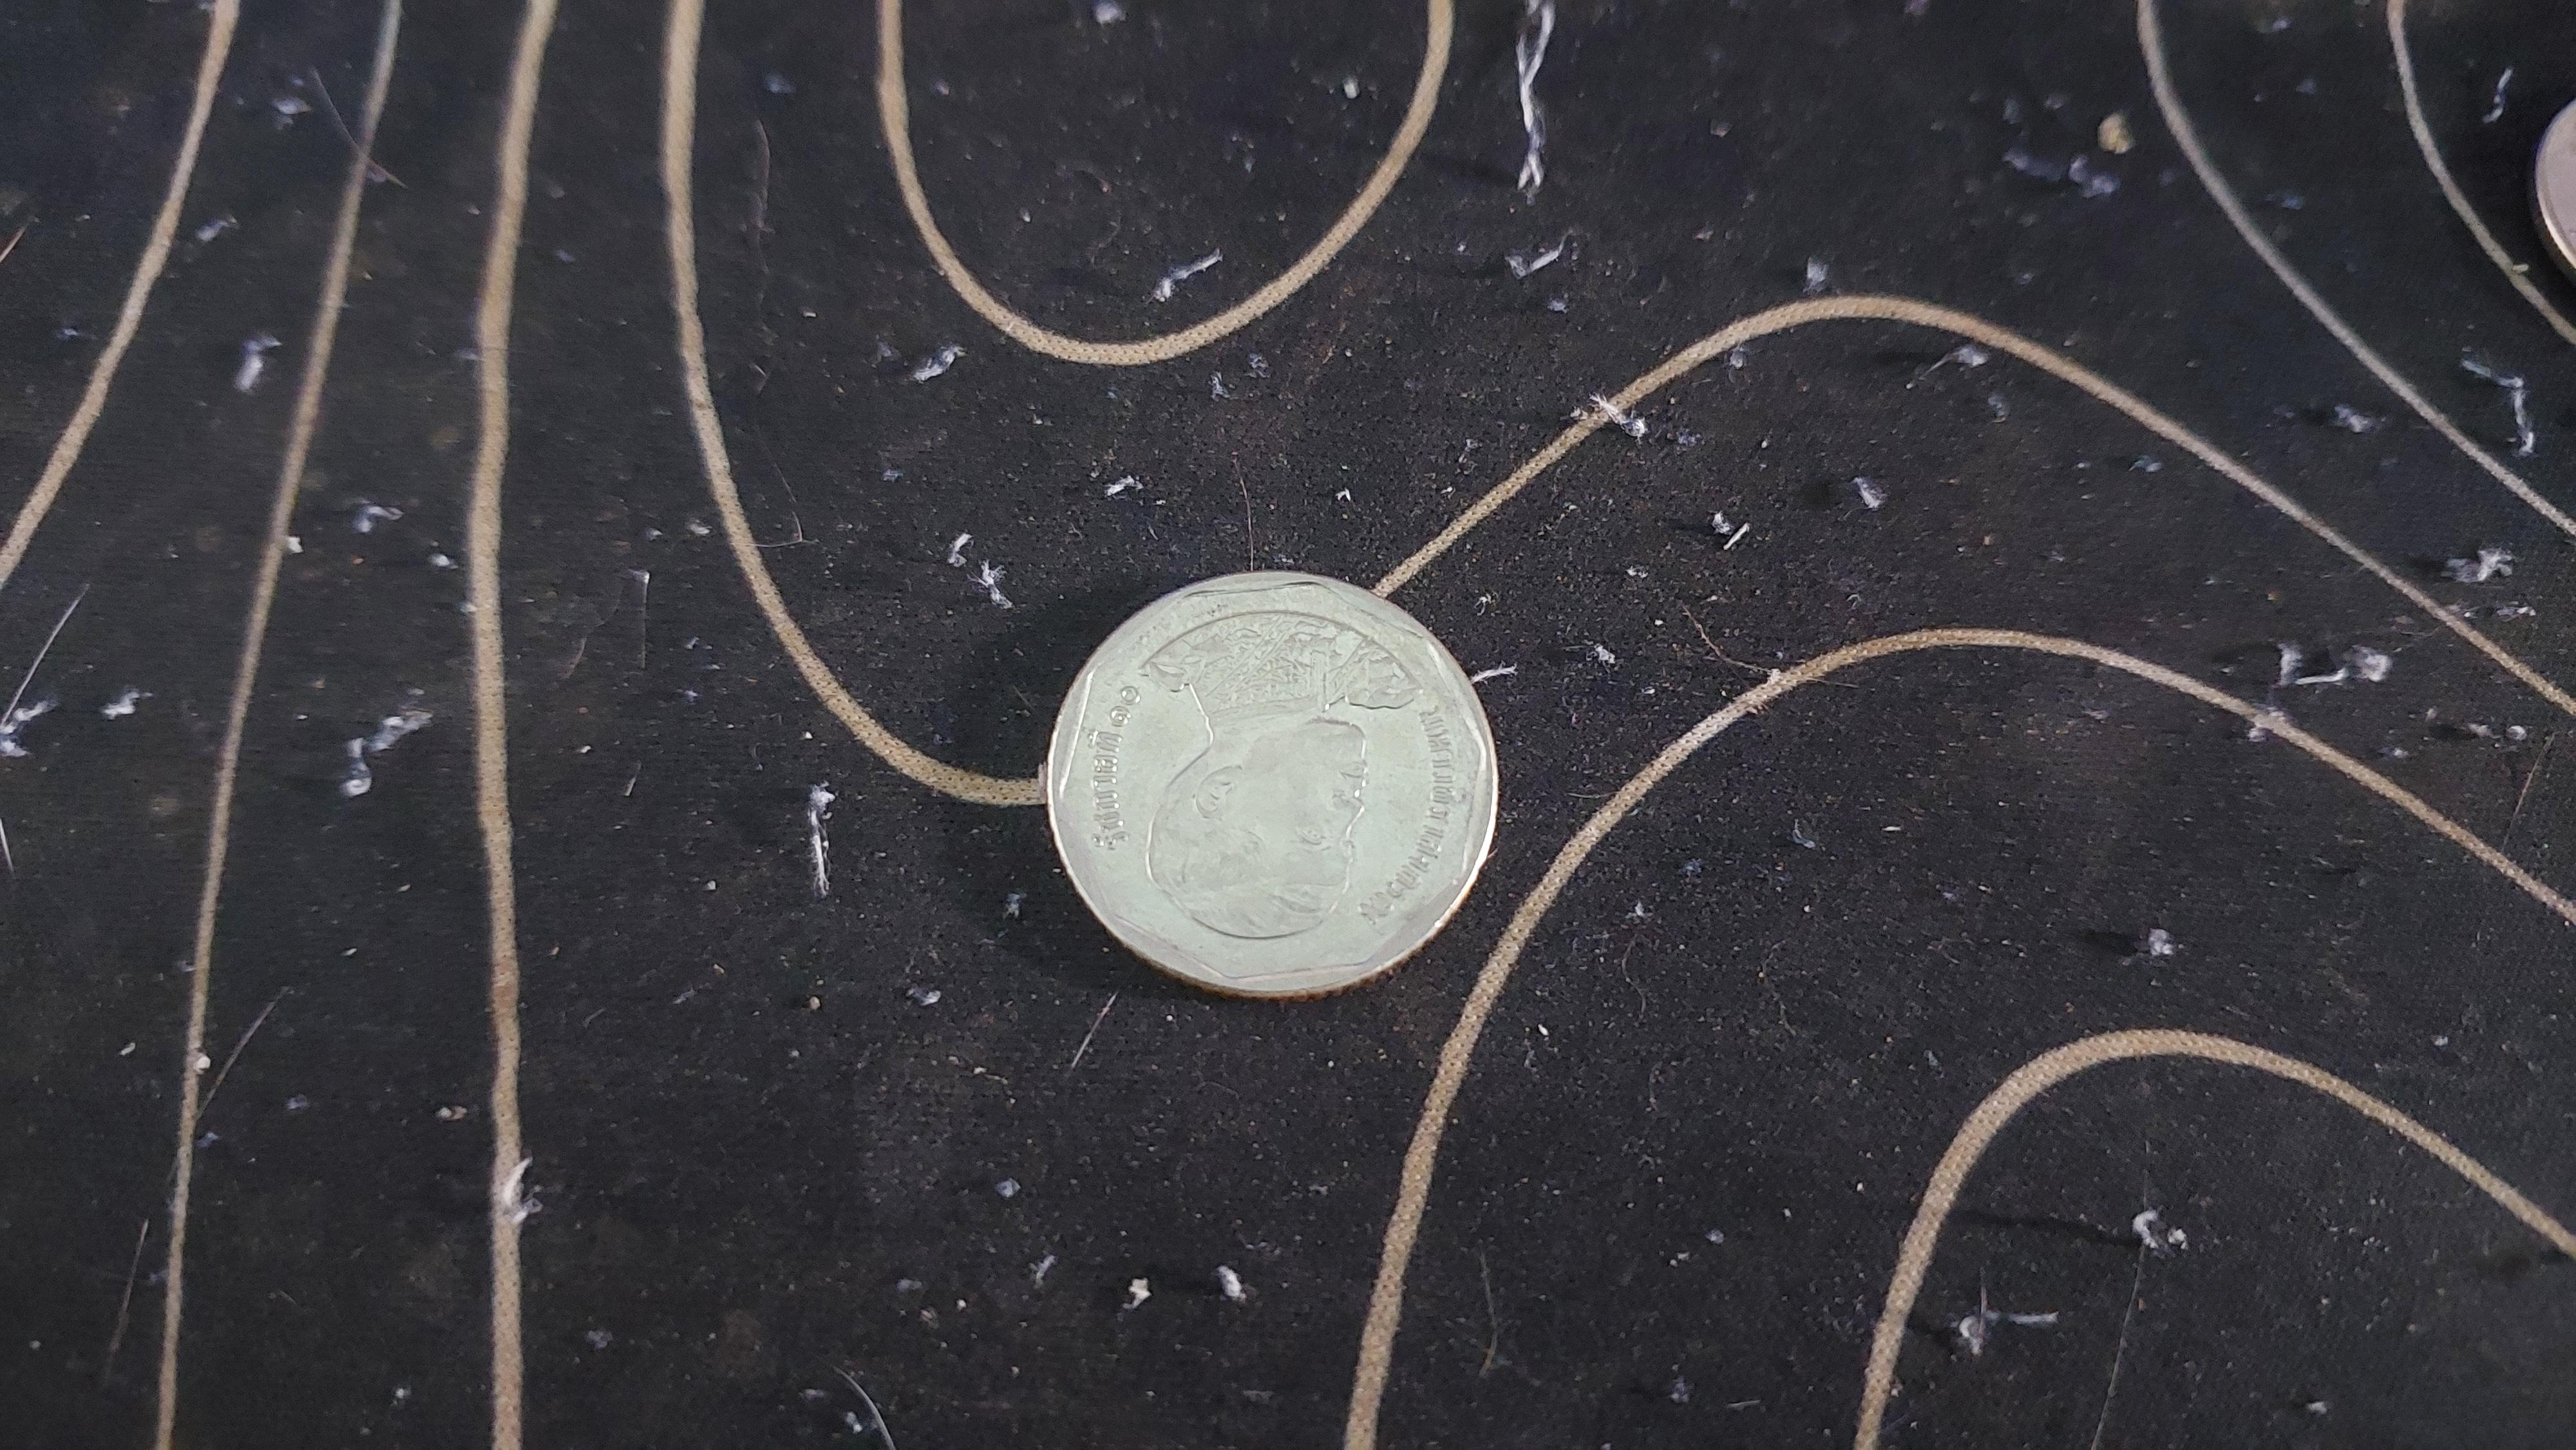5baht: (985, 539, 1608, 1030)
